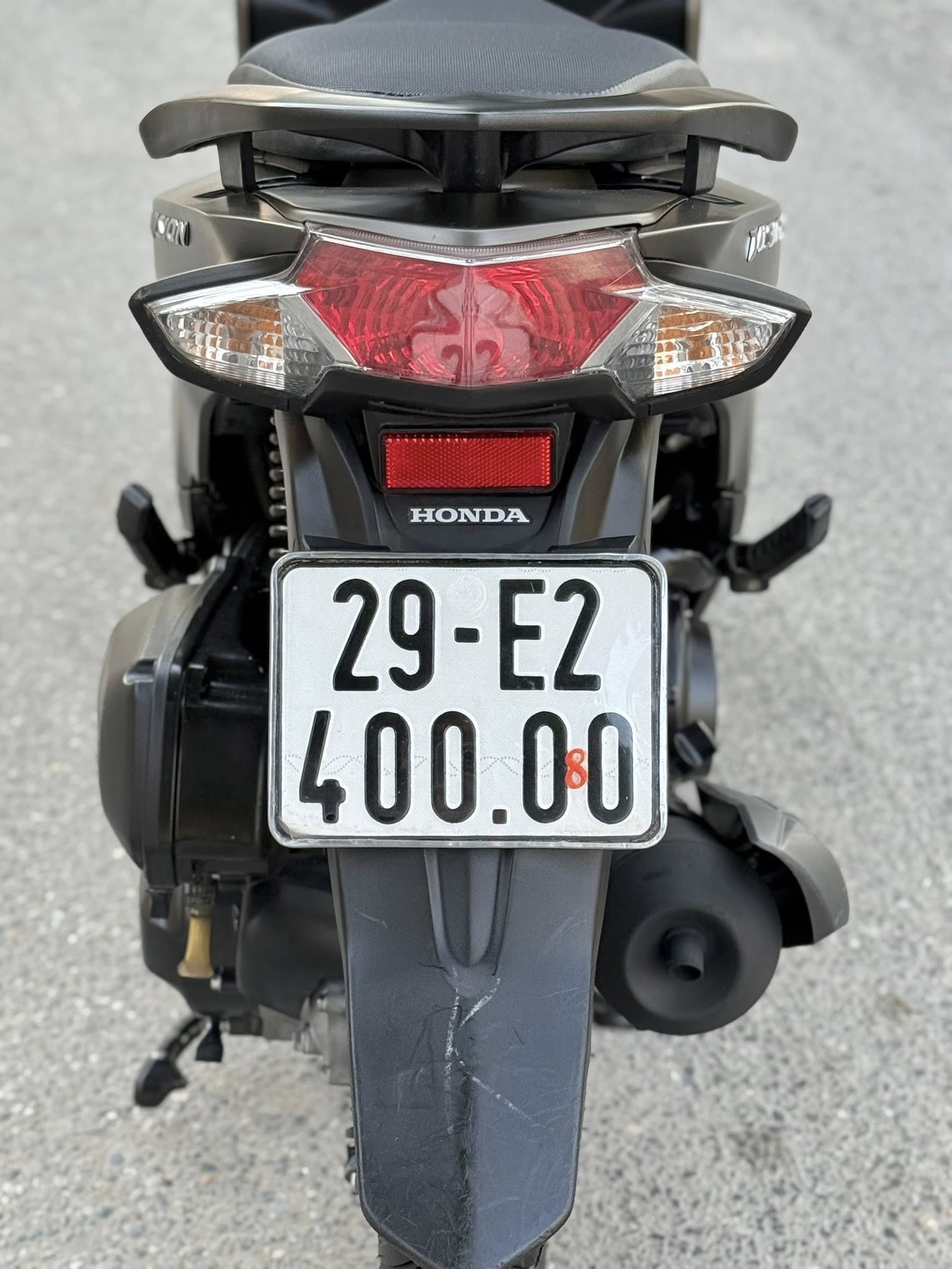bien_so: (254, 547, 678, 859)
